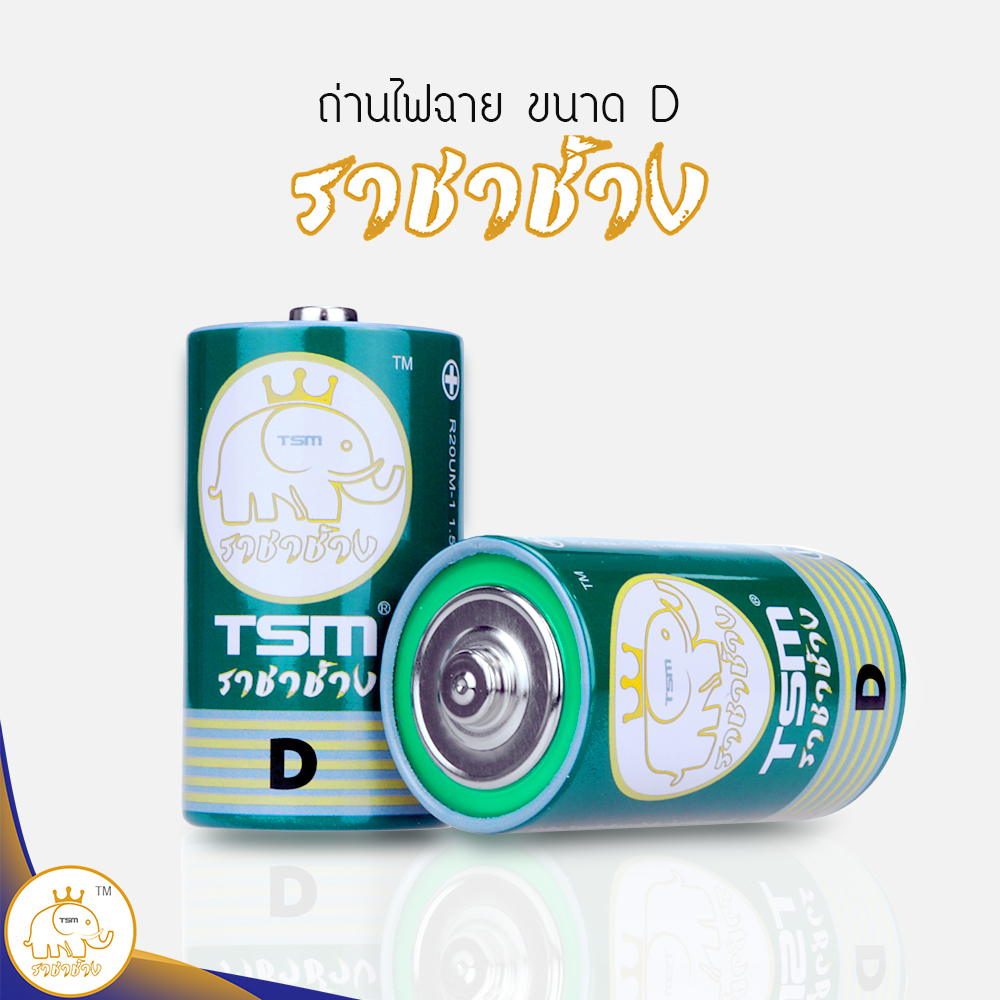Battery: (366, 522, 918, 845), (178, 301, 470, 845)
